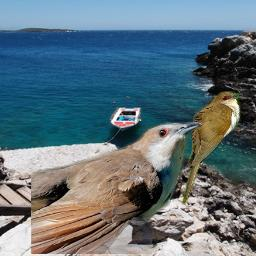Cuckoo: (31, 122, 202, 254), (181, 91, 243, 205)
